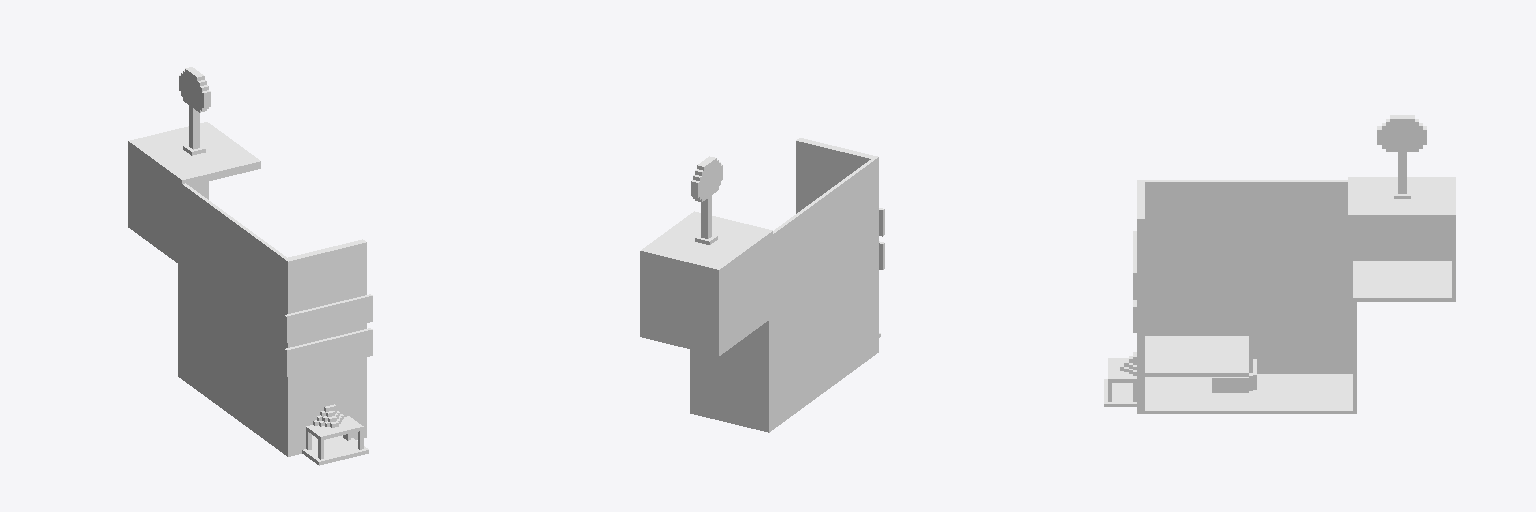
File: Hotel.obj
3 renders of one model, left to right at view 1: azimuth 30°, elevation 25°; view 2: azimuth 150°, elevation 25°; view 3: azimuth 270°, elevation 25°, orthographic.
Parts seen in each view (by area): view 1: Hotel; view 2: Hotel; view 3: Hotel.
Boxes of the visible parts, box(x1,y1,x2,y2) form: Hotel: box(128, 67, 372, 465); Hotel: box(640, 138, 884, 432); Hotel: box(1104, 115, 1455, 413).
Bounding box in the file's own units: 24 × 74 × 85.